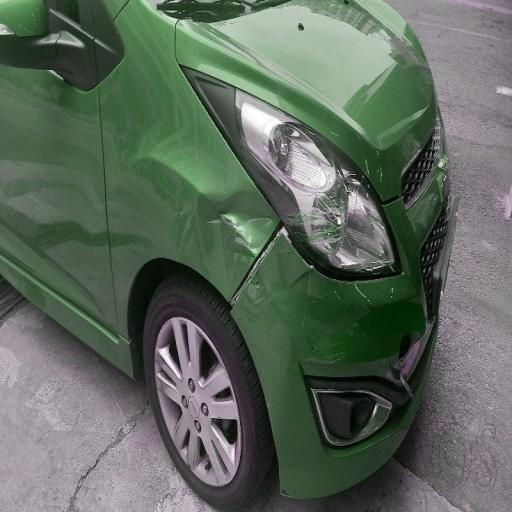dent: (154, 42, 431, 379)
